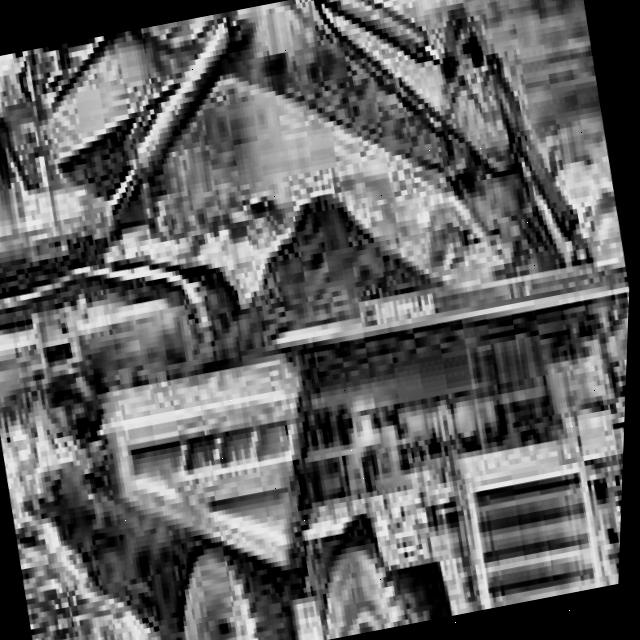dump_truck: (41, 199, 634, 640)
excavator: (0, 0, 640, 629)
